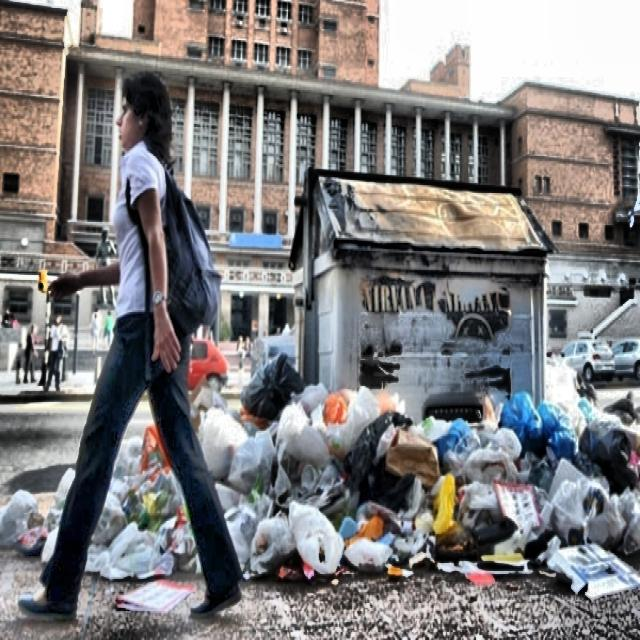garbage: (186, 373, 639, 595), (0, 405, 186, 589)
